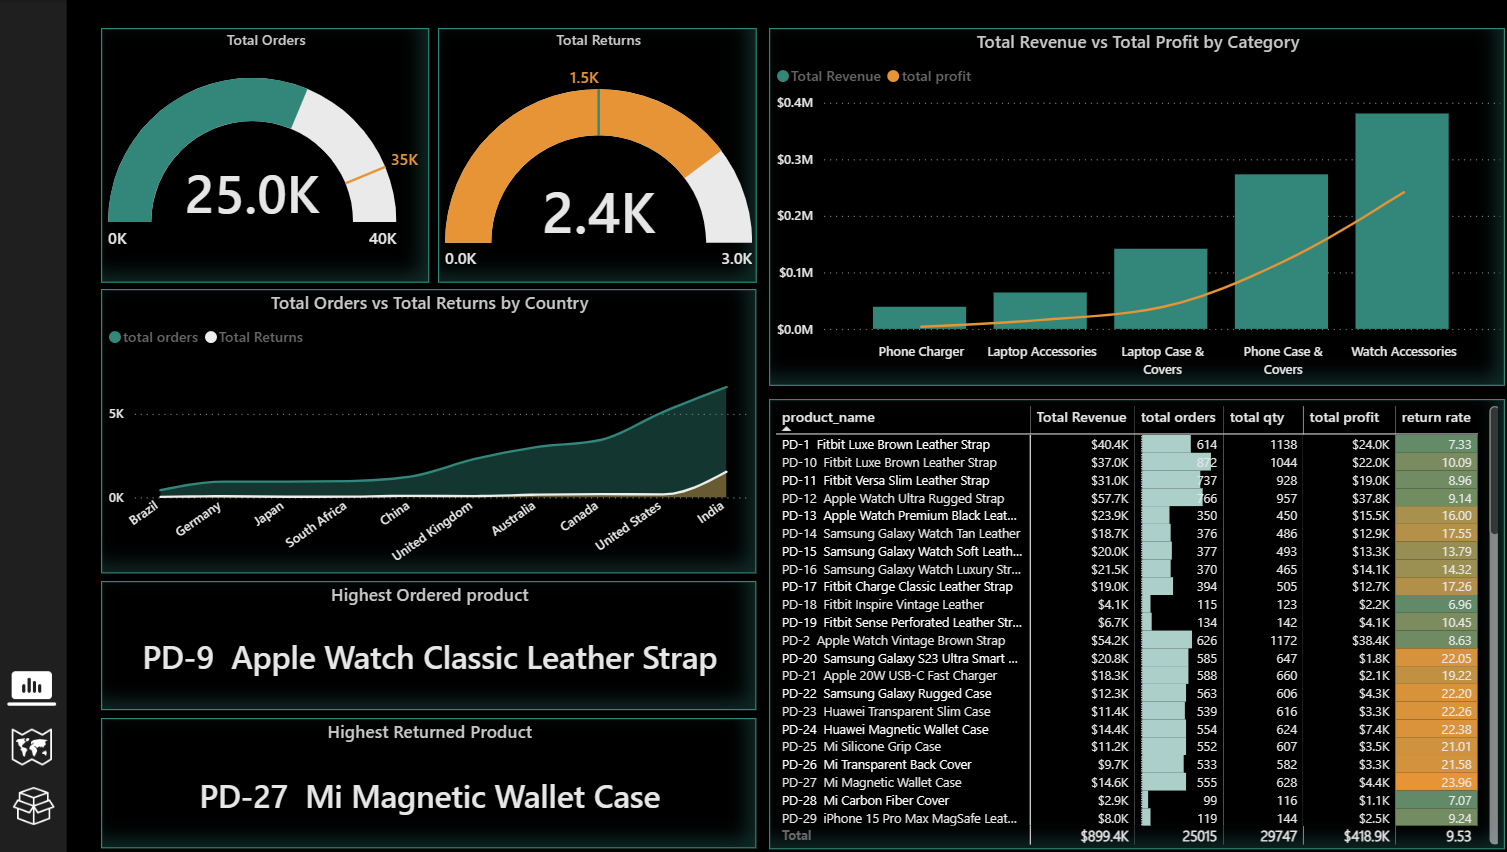

Layout of this report page (visuals, bound fields, positions):
{"tool":"powerbi","page":{"name":"Product Charts","canvas":[1280,720],"ordinal":2},"visuals":[{"type":"shape","title":"Filter shape","box":[0,0,58,720.1],"z":0},{"type":"group","id":"g1","title":"Page Nav Icons","box":[0,553.1,57.9,152.1],"z":1000},{"type":"pivotTable","fields":{"Values":["measures table.Total Revenue","measures table.total orders","measures table.total qty","measures table.total profit","measures table.return rate"],"Rows":["products.product_name"]},"box":[650.4,336.4,621,379.5],"z":2000},{"type":"card","title":"Highest Ordered product","fields":{"Values":["measures table.topN product"]},"box":[87.1,489.9,552.9,108.7],"z":3000},{"type":"card","title":"Highest Returned Product","fields":{"Values":["measures table.topN return product"]},"box":[87.1,605.5,552.9,110.4],"z":4000},{"type":"lineClusteredColumnComboChart","title":"Total Revenue vs Total Profit by Category","fields":{"Category":["products.category"],"Y":["measures table.Total Revenue"],"Y2":["measures table.total profit"]},"box":[650.4,23.3,621,301.9],"z":5000},{"type":"gauge","title":"Total Orders","fields":{"Y":["measures table.total orders"]},"box":[87.1,23.3,276.9,214.8],"z":6000},{"type":"areaChart","title":"Total Orders vs Total Returns by Country","fields":{"Category":["Country.country"],"Y":["measures table.total orders","measures table.Total Returns"]},"box":[87.1,244.1,552.9,239.8],"z":7000},{"type":"gauge","fields":{"Y":["measures table.Total Returns"]},"box":[370.9,23.3,269.1,214.8],"z":8000},{"type":"image","title":"Map Chart","box":[5.4,605.6,47.1,49.8],"z":33000,"group":"g1"},{"type":"image","title":"Dashboard ceo","box":[0,553.1,57.9,52.5],"z":34000,"group":"g1"},{"type":"image","title":"Product Chart","box":[7.2,655.4,45.3,49.8],"z":35000,"group":"g1"}]}

Visuals, with their boxes on the page's 1280x720 design canvas (x1, y1, x2, y2). These are canvas units, not pixel positions in the 1507x852 screenshot, which may show the page scaled, cropped or inside an application window:
"Filter shape" shape: [0,0,58,720]
"Page Nav Icons" group: [0,553,58,705]
pivotTable - measures table.Total Revenue x measures table.total orders: [650,336,1271,716]
"Highest Ordered product" card: [87,490,640,599]
"Highest Returned Product" card: [87,606,640,716]
"Total Revenue vs Total Profit by Category" lineClusteredColumnComboChart: [650,23,1271,325]
"Total Orders" gauge: [87,23,364,238]
"Total Orders vs Total Returns by Country" areaChart: [87,244,640,484]
gauge - measures table.Total Returns: [371,23,640,238]
"Map Chart" image: [5,606,52,655]
"Dashboard ceo" image: [0,553,58,606]
"Product Chart" image: [7,655,52,705]
